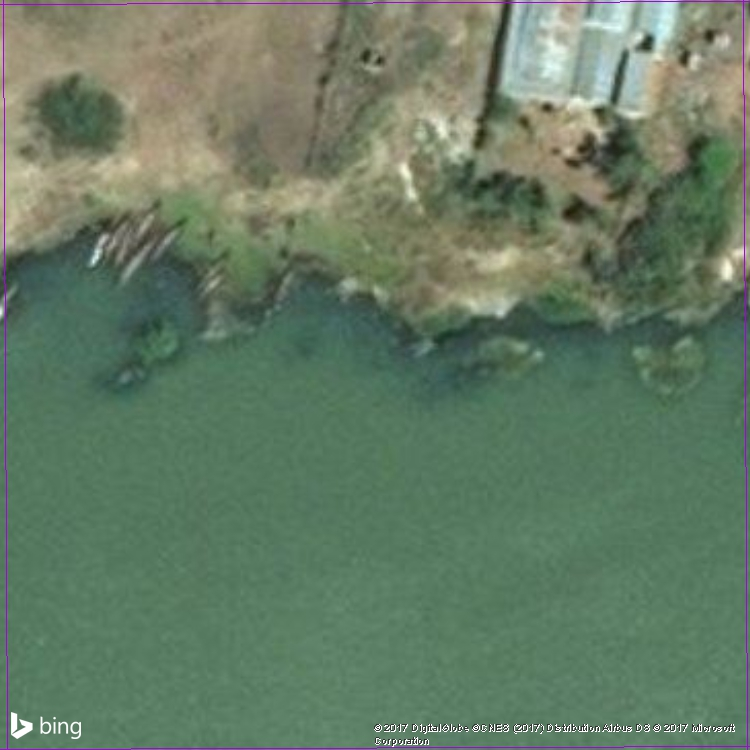boat: (117, 229, 160, 295), (146, 213, 191, 273), (127, 198, 165, 254), (189, 247, 231, 296), (102, 208, 132, 265), (87, 228, 111, 271), (113, 226, 133, 277), (199, 272, 228, 305)
